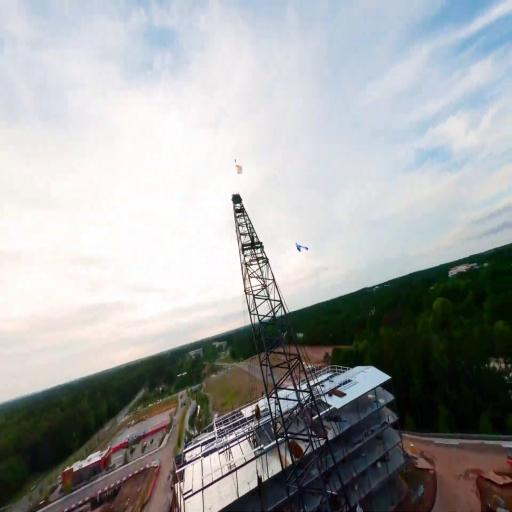uav: (294, 239, 309, 255)
